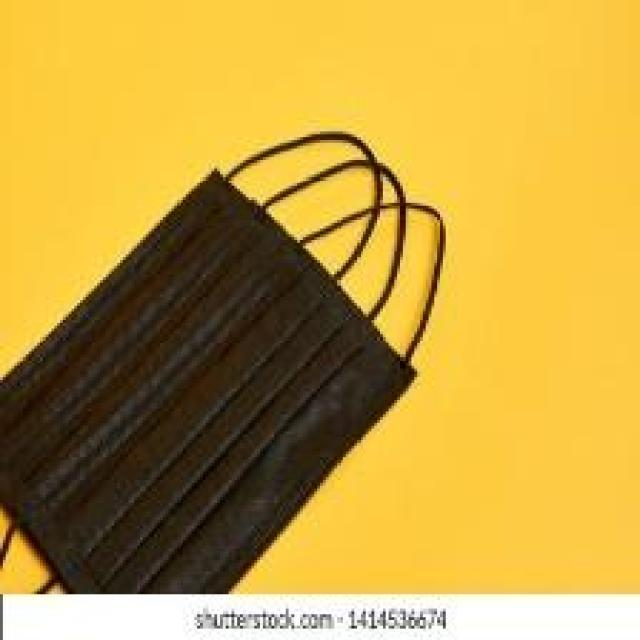Mask: (7, 145, 454, 598)
